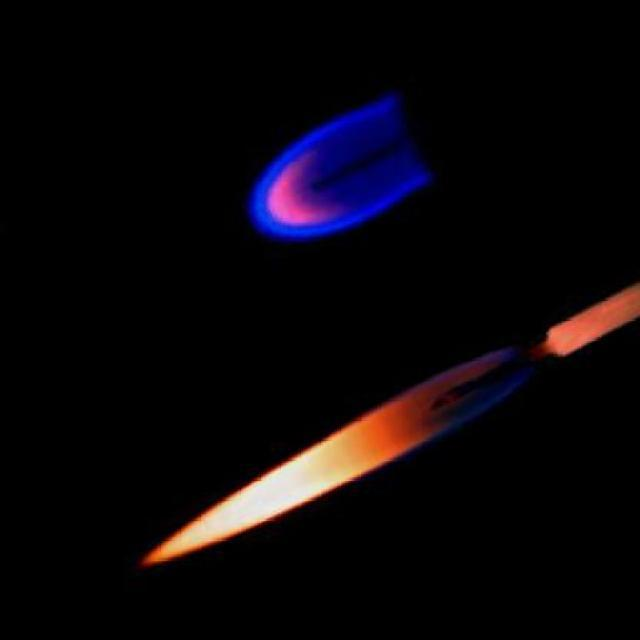Fire: (222, 104, 433, 245)
